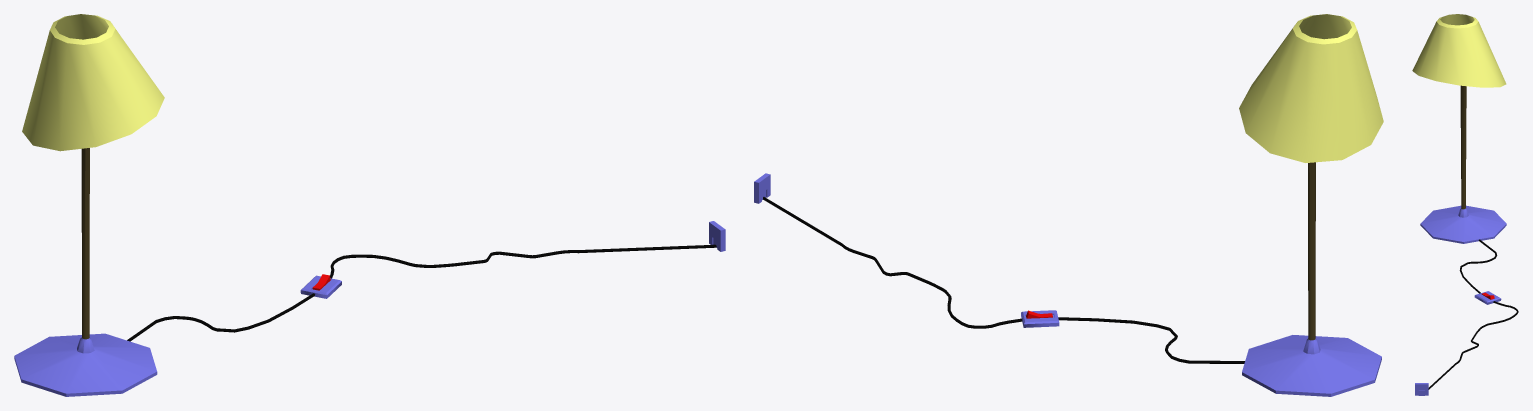
File: LampSwitch.FBX
3 renders of one model, left to right at view 1: azimuth 30°, elevation 25°; view 2: azimuth 150°, elevation 25°; view 3: azimuth 270°, elevation 25°, orthographic. The views are drawn at different scales.
Parts seen in each view (by area): view 1: LampHigh; view 2: LampHigh; view 3: LampHigh.
Boxes of the visible parts, <box> form: LampHigh: <box>14,14,725,396</box>; LampHigh: <box>754,14,1383,396</box>; LampHigh: <box>1412,14,1518,395</box>.
Bounding box in the file's own units: 12.05 × 6.06 × 2.86.
